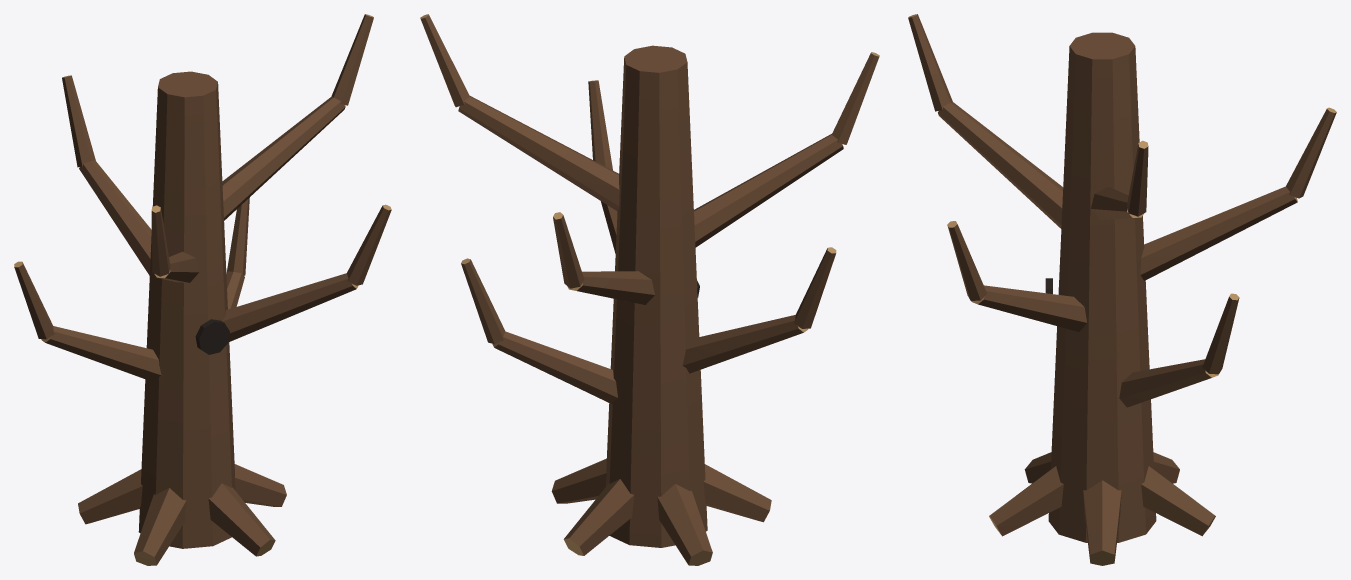
The model's file is tree_dead_b.glb.
The picture shows the model from 3 angles, left to right: view 1: azimuth 30°, elevation 25°; view 2: azimuth 150°, elevation 25°; view 3: azimuth 270°, elevation 25°; orthographic projection. The views are drawn at different scales.
Parts seen in each view (by area): view 1: tree_dead_b; view 2: tree_dead_b; view 3: tree_dead_b.
Part boxes in pixels (left/top/right/bottom): tree_dead_b: left=14, top=14, right=391, bottom=565; tree_dead_b: left=420, top=14, right=879, bottom=565; tree_dead_b: left=908, top=14, right=1336, bottom=565.
Bounding box in the file's own units: 3.12 × 3.56 × 2.86.
